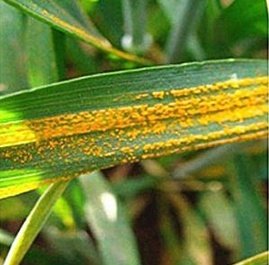Leaf Rust: (25, 59, 259, 170)
